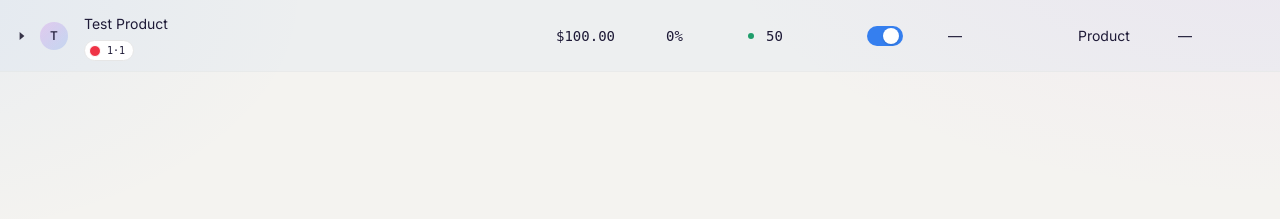
Test case: ProductRow › reveals primary variants on expand, and secondary variants on nested expand
Check: the text "Test Product" is shown, box [84,14,168,34]
Check: the text "Red" is not shown
# Expand the product → the "Color" group + the "Red" variant appear.
Step 1. Click the button named "expand" → (22, 36), box [12,26,32,46]
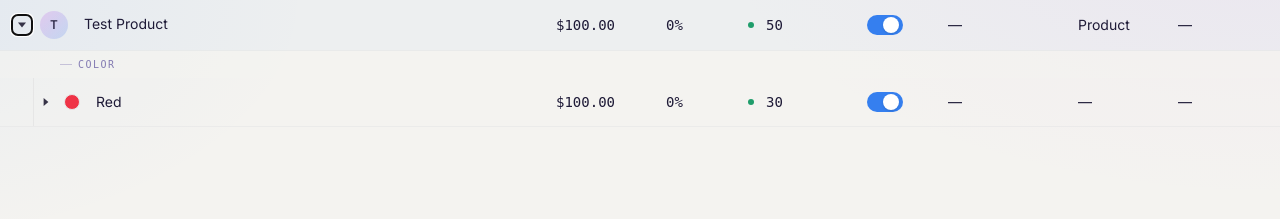
Check: the text "Small" is not shown
Check: the text "Color" is shown, box [78,59,116,70]
Check: the text "Red" is shown, box [96,92,122,112]
# Expand the primary variant → the "Size" group + "Small" appear.
Step 2. Click the button named "expand" → (46, 102), box [36,92,56,112]
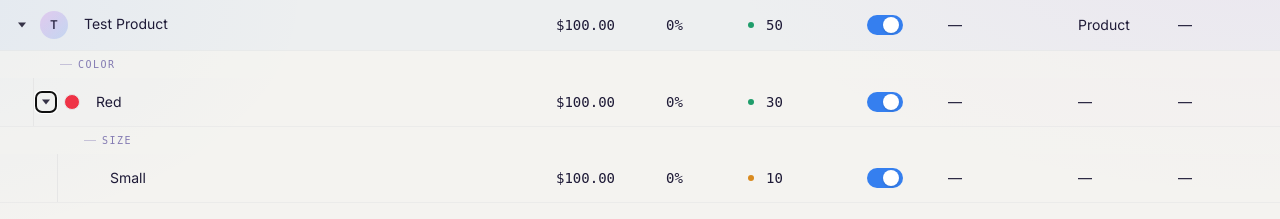
Check: the text "Size" is shown, box [102,135,132,146]
Check: the text "Small" is shown, box [110,168,146,188]
